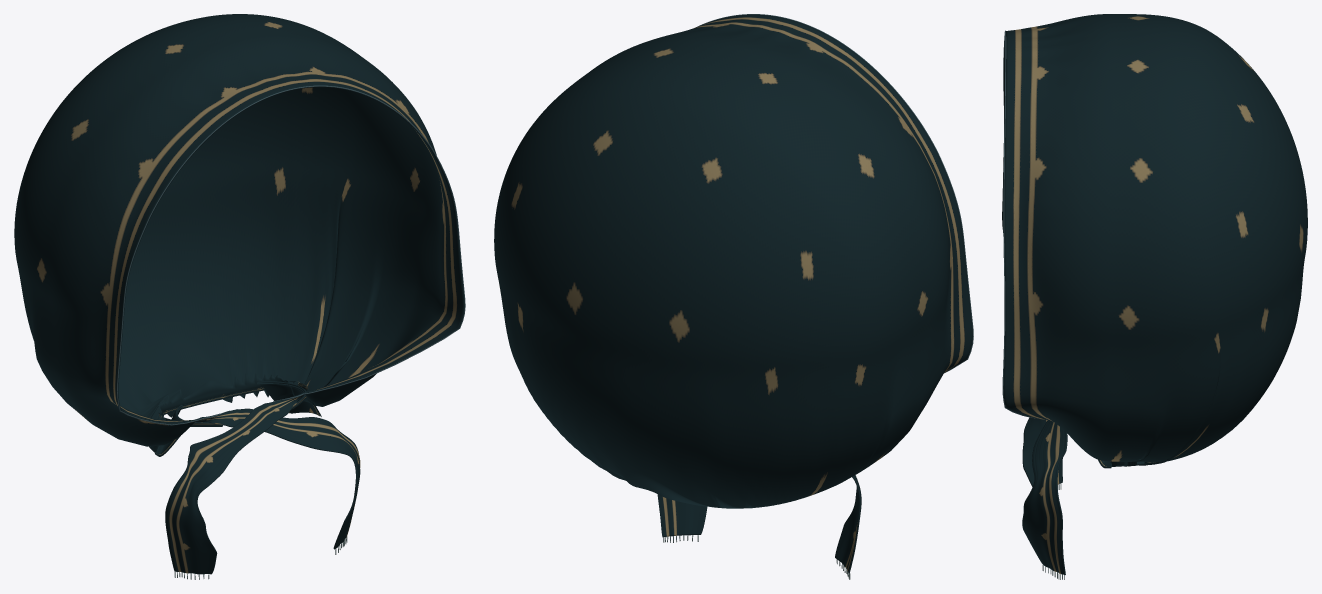
File: Feminine-space-buns-tank-pashmina250-headgear.glb
3 renders of one model, left to right at view 1: azimuth 30°, elevation 25°; view 2: azimuth 150°, elevation 25°; view 3: azimuth 270°, elevation 25°, orthographic. The views are drawn at different scales.
Parts seen in each view (by area): view 1: 226 headgear / Headwear / continuous woven pashmina239, 226 headgear / Headwear / face edge239; view 2: 226 headgear / Headwear / continuous woven pashmina239, 226 headgear / Headwear / face edge239; view 3: 226 headgear / Headwear / continuous woven pashmina239, 226 headgear / Headwear / face edge239.
Part boxes in pixels (x1,y1,x2,y2): 226 headgear / Headwear / continuous woven pashmina239: [14, 14, 464, 574]; 226 headgear / Headwear / face edge239: [117, 85, 465, 425]; 226 headgear / Headwear / continuous woven pashmina239: [494, 14, 972, 573]; 226 headgear / Headwear / face edge239: [695, 14, 973, 372]; 226 headgear / Headwear / continuous woven pashmina239: [1002, 14, 1307, 574]; 226 headgear / Headwear / face edge239: [1002, 30, 1043, 419].
Size of the model in its own units: 1.07 by 1.38 by 0.7556.
Materials: 3 (1 with a texture image).
